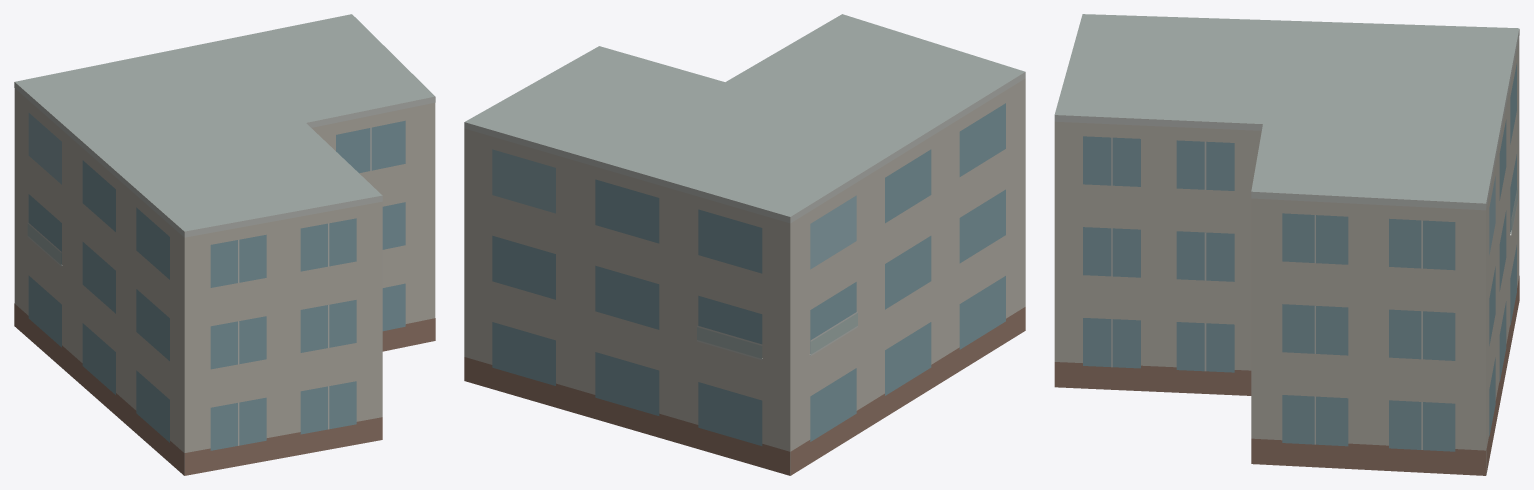
The model's file is survey-upis-32916914.glb.
The picture shows the model from 3 angles, left to right: view 1: azimuth 30°, elevation 25°; view 2: azimuth 150°, elevation 25°; view 3: azimuth 270°, elevation 25°; orthographic projection. The views are drawn at different scales.
Visible parts, largest first — view 1: survey-upis-32916914.tmp; view 2: survey-upis-32916914.tmp; view 3: survey-upis-32916914.tmp.
Part boxes in pixels (x1,y1,x2,y2): survey-upis-32916914.tmp: (14,14,435,475); survey-upis-32916914.tmp: (464,14,1025,475); survey-upis-32916914.tmp: (1054,14,1519,475).
Size of the model in its own units: 14.65 by 9.8 by 15.18.
